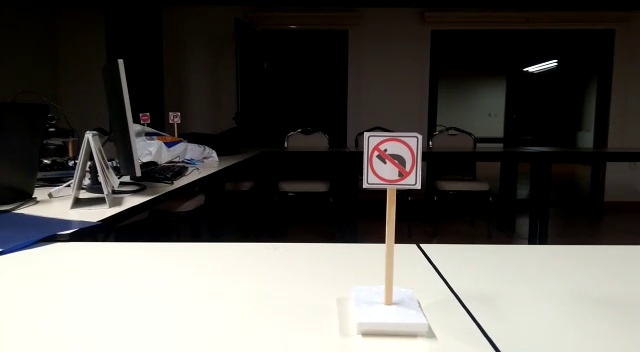sola_donulmez: (366, 134, 418, 186)
